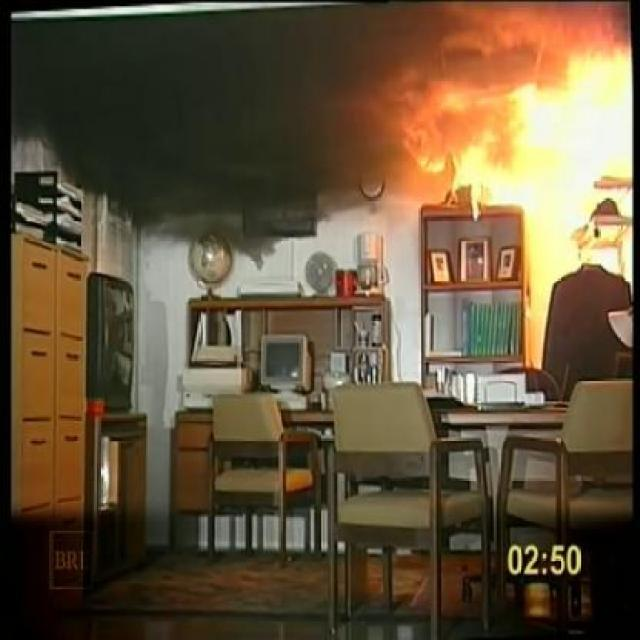fire: (412, 11, 630, 190)
